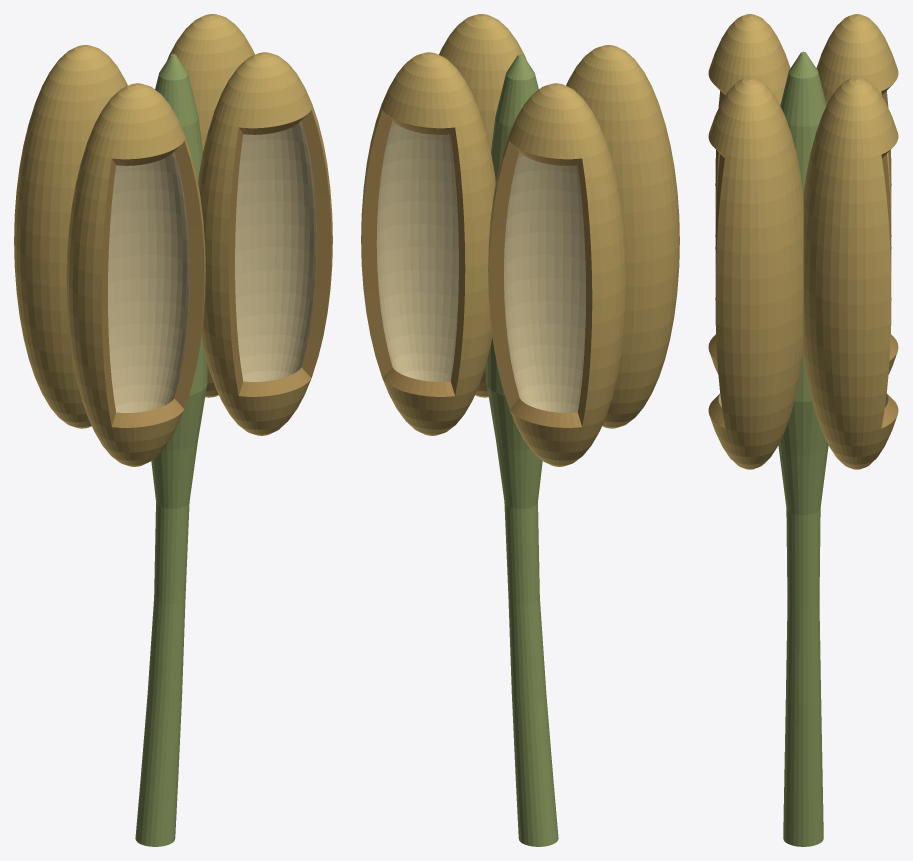
3 renders of one model, left to right at view 1: azimuth 30°, elevation 25°; view 2: azimuth 150°, elevation 25°; view 3: azimuth 270°, elevation 25°, orthographic. The views are drawn at different scales.
Visible parts, largest first — view 1: WholeWindowedLocule_Left_Front, WholeWindowedLocule_Right_Front, WholeWindowedLocule_Left_Rear, WholeFilamentAndContinuousConnective, WholeWindowedLocule_Right_Rear; view 2: WholeWindowedLocule_Left_Rear, WholeWindowedLocule_Right_Rear, WholeWindowedLocule_Left_Front, WholeFilamentAndContinuousConnective, WholeWindowedLocule_Right_Front; view 3: WholeWindowedLocule_Right_Front, WholeWindowedLocule_Right_Rear, WholeFilamentAndContinuousConnective, WholeWindowedLocule_Left_Front, WholeWindowedLocule_Left_Rear.
Boxes of the visible parts, x1,y1,x2,y2 form: WholeWindowedLocule_Left_Front: (66,83,205,466); WholeWindowedLocule_Right_Front: (198,52,332,435); WholeWindowedLocule_Left_Rear: (14,45,127,428); WholeFilamentAndContinuousConnective: (135,54,207,846); WholeWindowedLocule_Right_Rear: (167,14,254,397); WholeWindowedLocule_Left_Rear: (488,83,627,466); WholeWindowedLocule_Right_Rear: (361,52,495,435); WholeWindowedLocule_Left_Front: (566,45,679,428); WholeFilamentAndContinuousConnective: (486,54,558,846); WholeWindowedLocule_Right_Front: (439,14,526,397); WholeWindowedLocule_Right_Front: (708,77,803,469); WholeWindowedLocule_Right_Rear: (803,77,898,469); WholeFilamentAndContinuousConnective: (778,51,828,846); WholeWindowedLocule_Left_Front: (708,14,790,374); WholeWindowedLocule_Left_Rear: (816,14,898,374).
Size of the model in its own units: 0.056 by 0.165 by 0.0356.
